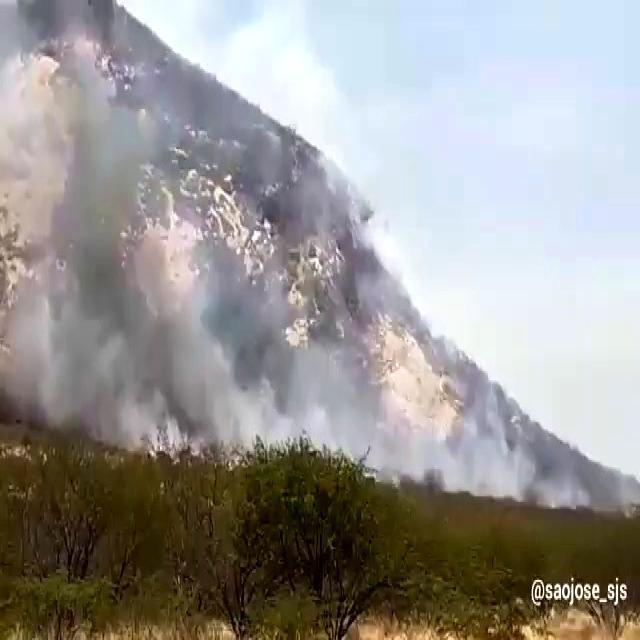Smoke: (0, 0, 268, 458), (254, 303, 564, 511)
